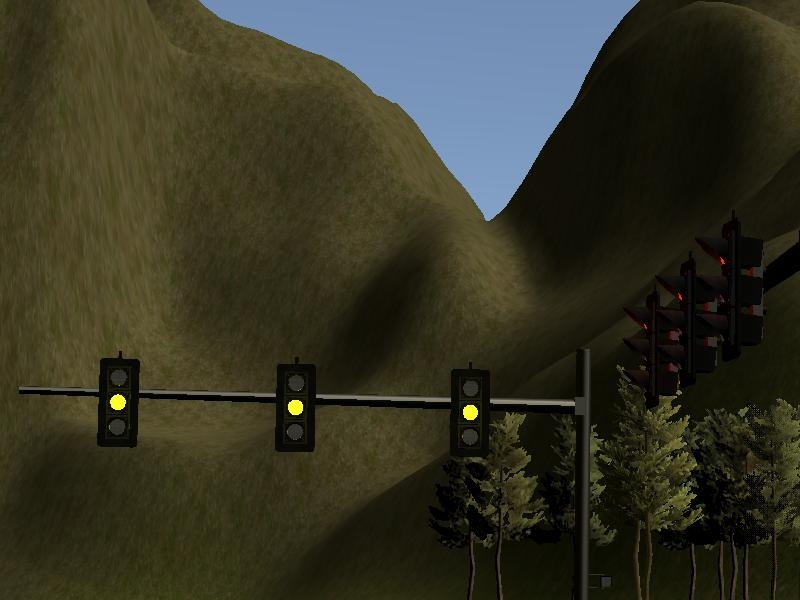YELLOW: (271, 358, 316, 454), (95, 355, 139, 447), (448, 366, 491, 459)
